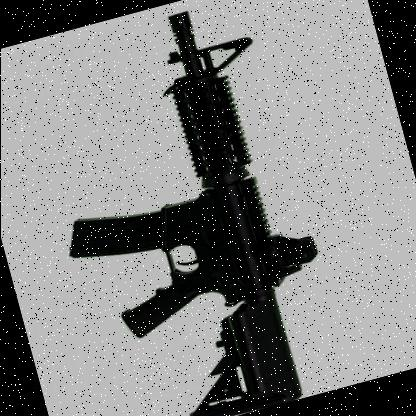rifle: (7, 0, 344, 416)
